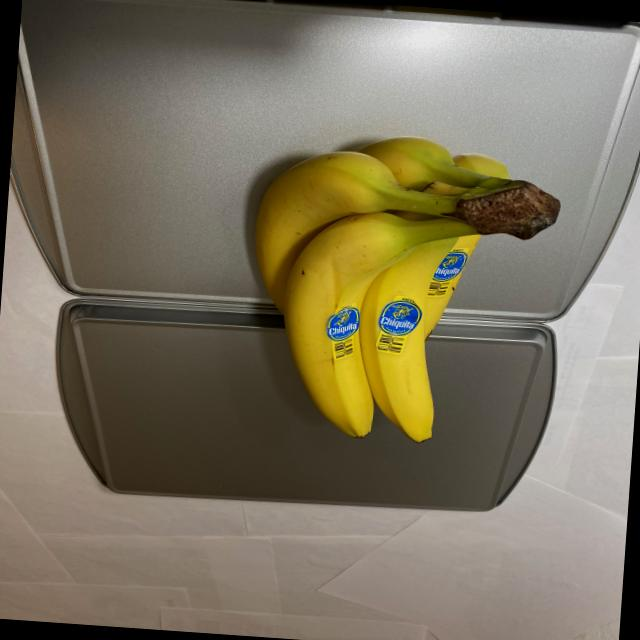banana: (233, 128, 568, 456)
